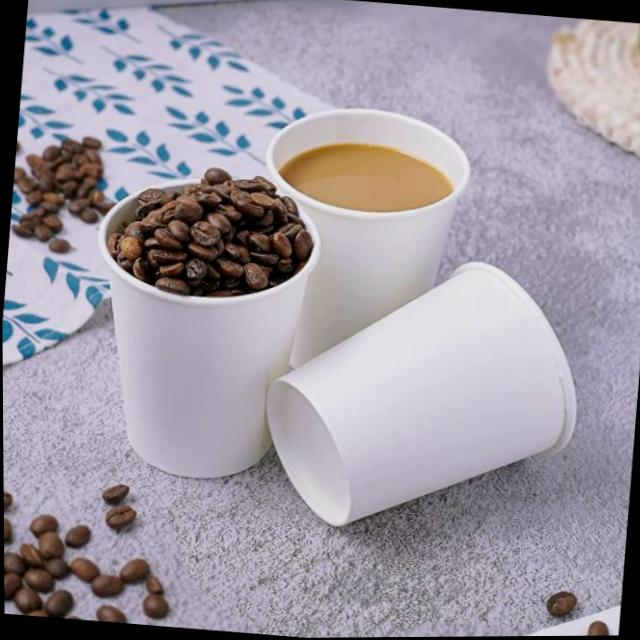Cup: (250, 241, 590, 548), (74, 166, 328, 490), (244, 96, 476, 383)
